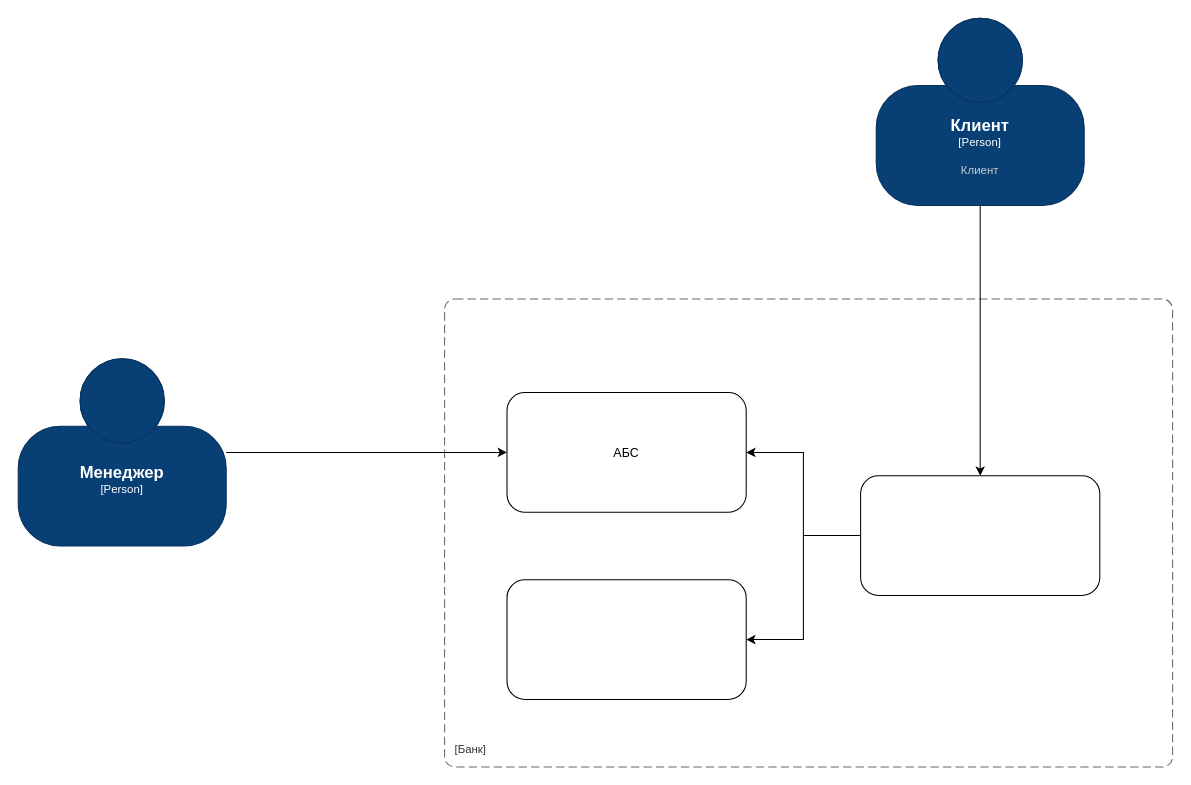
Image size: 1191x785. Some labels were removed from this diagram. Each missing label, with the centre of its shape:
"Интернет банк" goes at (980,535).
"Кол-центр" goes at (626,639).
